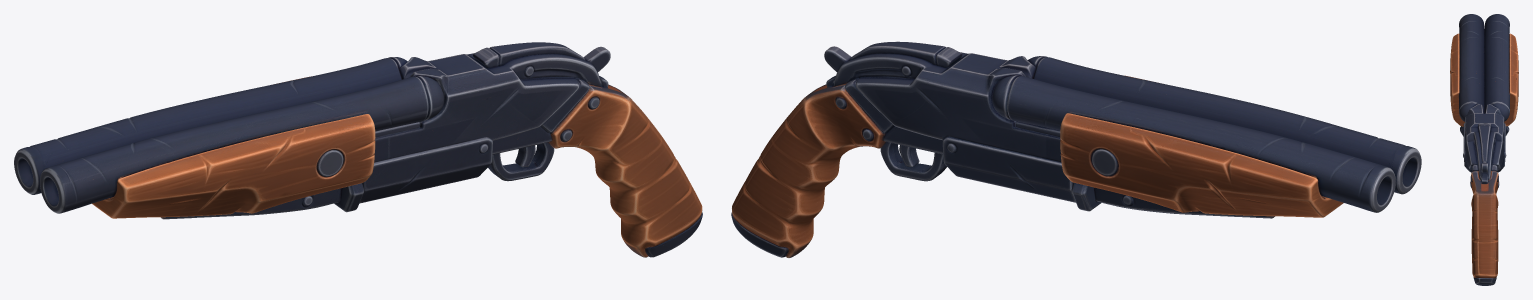
The model's file is super_shotgun.glb.
The picture shows the model from 3 angles, left to right: view 1: azimuth 30°, elevation 25°; view 2: azimuth 150°, elevation 25°; view 3: azimuth 270°, elevation 25°; orthographic projection. The views are drawn at different scales.
Size of the model in its own units: 1.9 by 0.6767 by 0.3419.
Materials: 1 (1 with a texture image).
